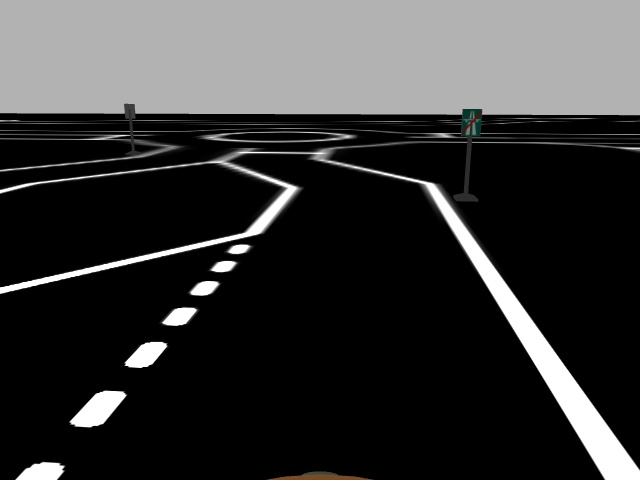leave_highway: (459, 107, 483, 138)
